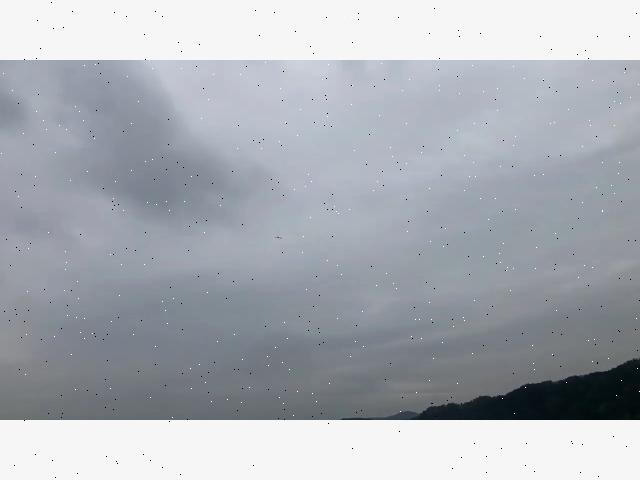Anti-Drone: (264, 233, 288, 247)
